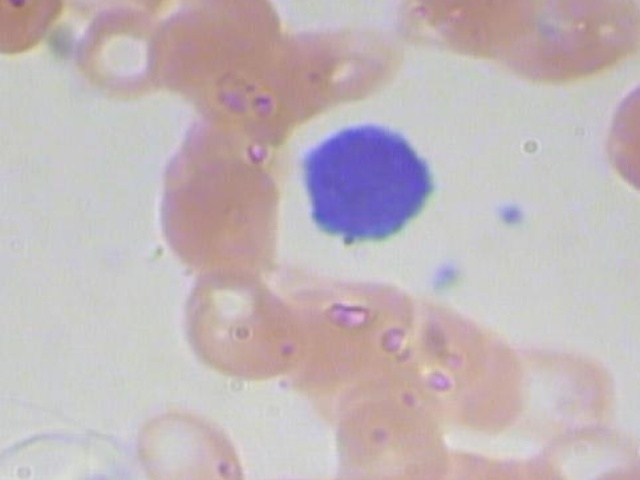Platelets: (487, 198, 533, 233), (419, 256, 465, 291)
RBC: (283, 261, 423, 390), (360, 297, 500, 425), (477, 320, 623, 442), (162, 267, 307, 387), (150, 154, 287, 273), (285, 6, 415, 115), (186, 34, 315, 143), (62, 1, 173, 108), (506, 0, 640, 85), (329, 392, 451, 480), (134, 392, 255, 480), (389, 0, 544, 56), (589, 66, 640, 219), (0, 0, 75, 61), (81, 0, 225, 1)
WBC: (297, 119, 439, 253)
